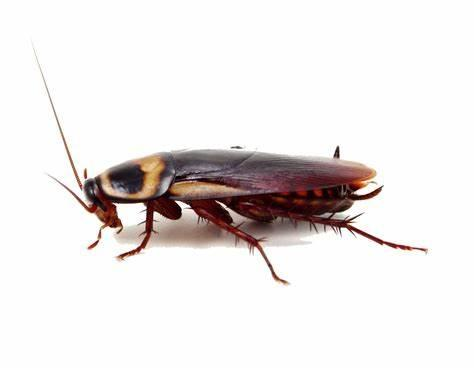cockroach: (62, 137, 390, 268)
